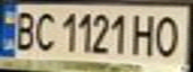1: (109, 10, 130, 55), (57, 9, 78, 53), (75, 9, 93, 54)
2: (90, 10, 112, 55)
B: (9, 8, 39, 52)
C: (30, 8, 57, 53)
H: (130, 10, 160, 56)
O: (151, 11, 187, 58)
